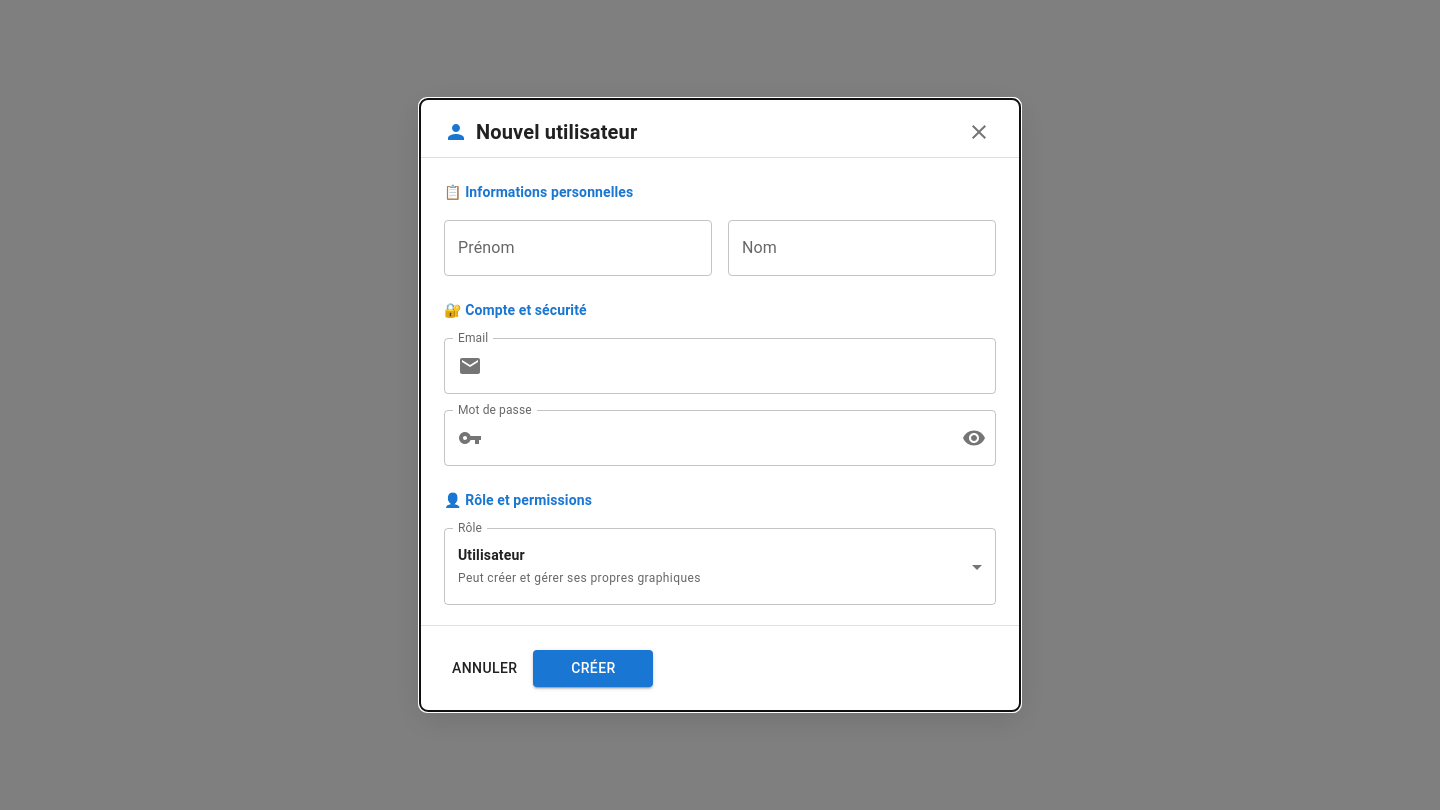
Test case: UserManagementDialog — create mode › rejects invalid email format
This screenshot has width=1440, height=810.
Type "not-email" into the field labelled "Email". click: (743, 366)
box: x1=490 y1=338 x2=996 y2=394
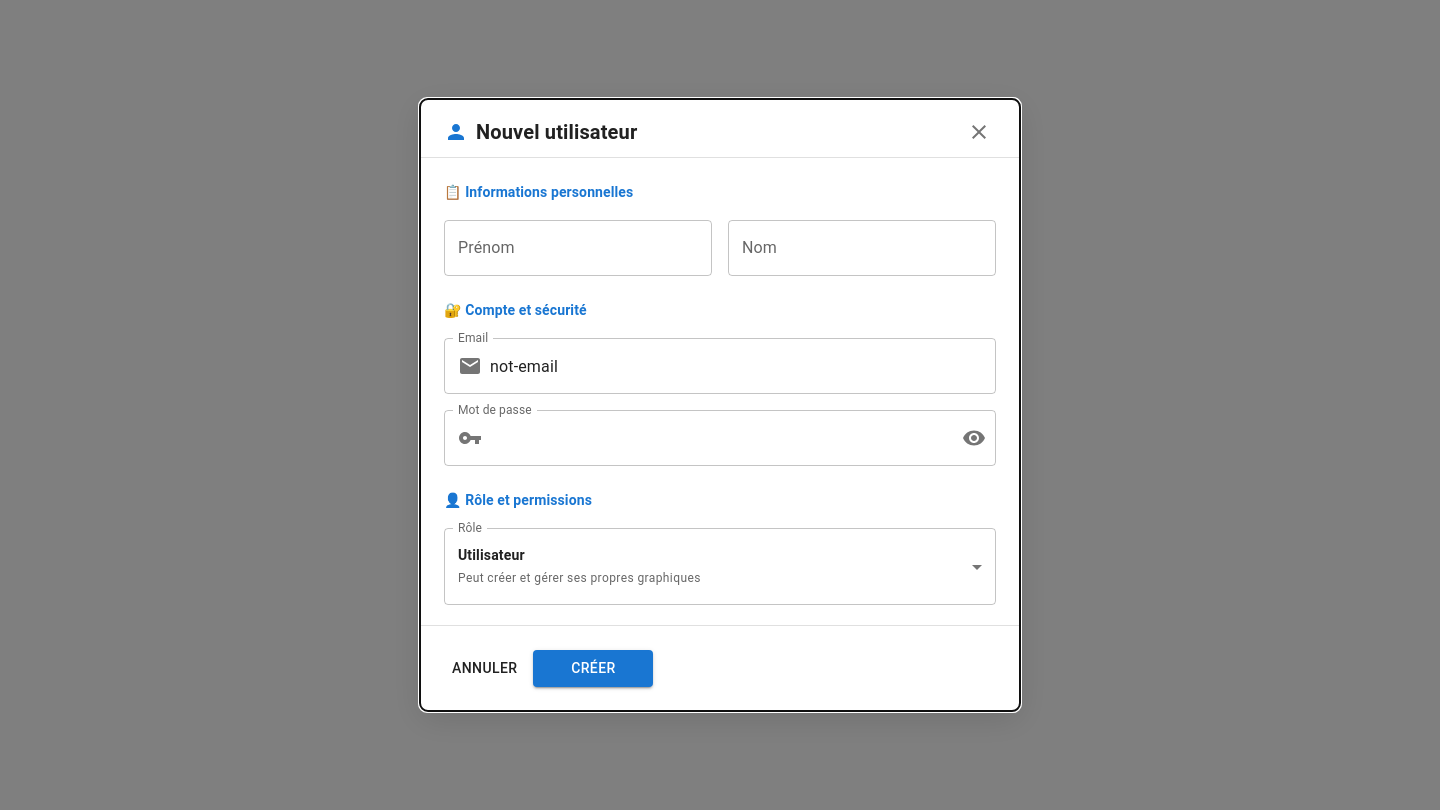
Type "A" into the field labelled "Prénom". click: (578, 248)
box: x1=444 y1=220 x2=712 y2=276
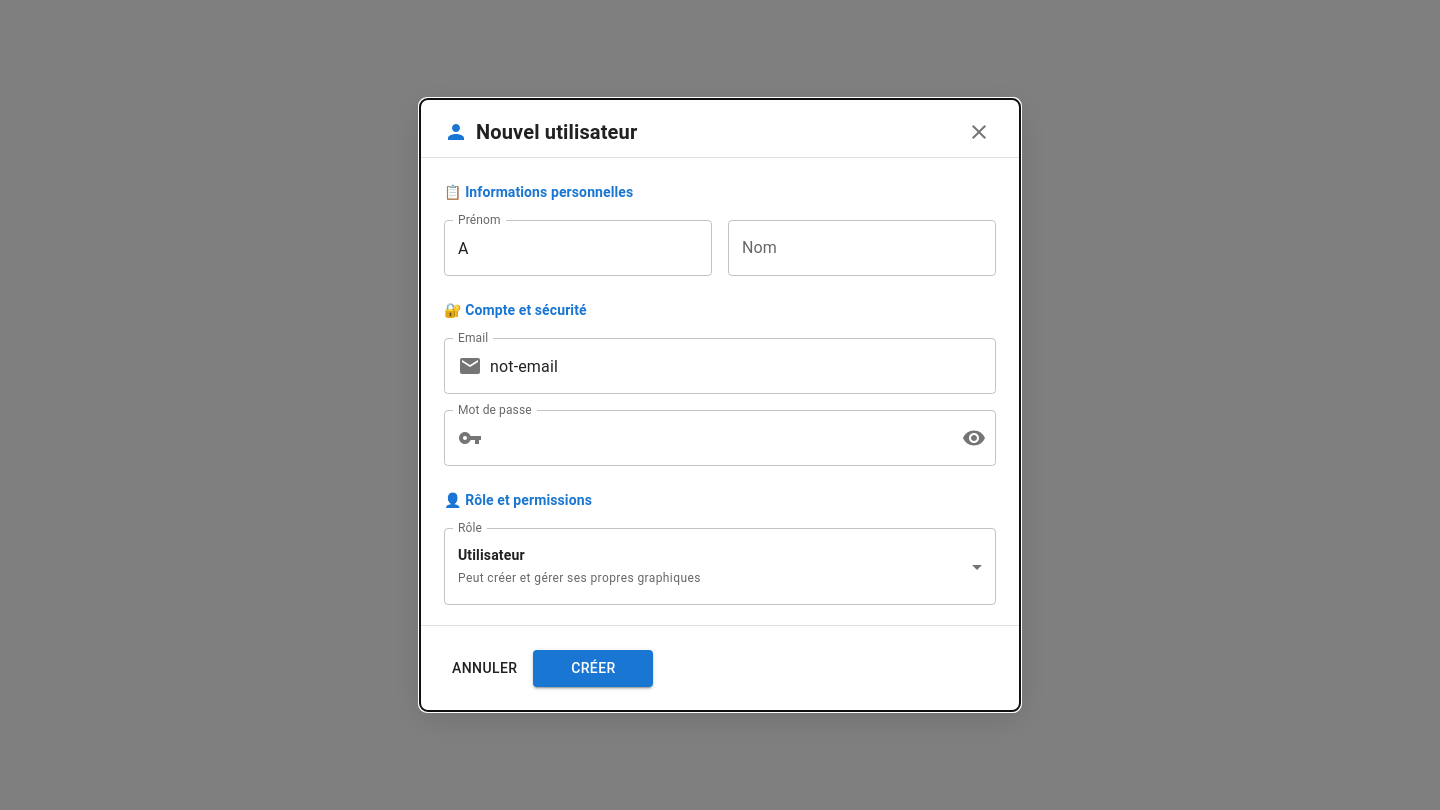
Type "B" into the field labelled "Nom". click: (862, 248)
box: x1=728 y1=220 x2=996 y2=276
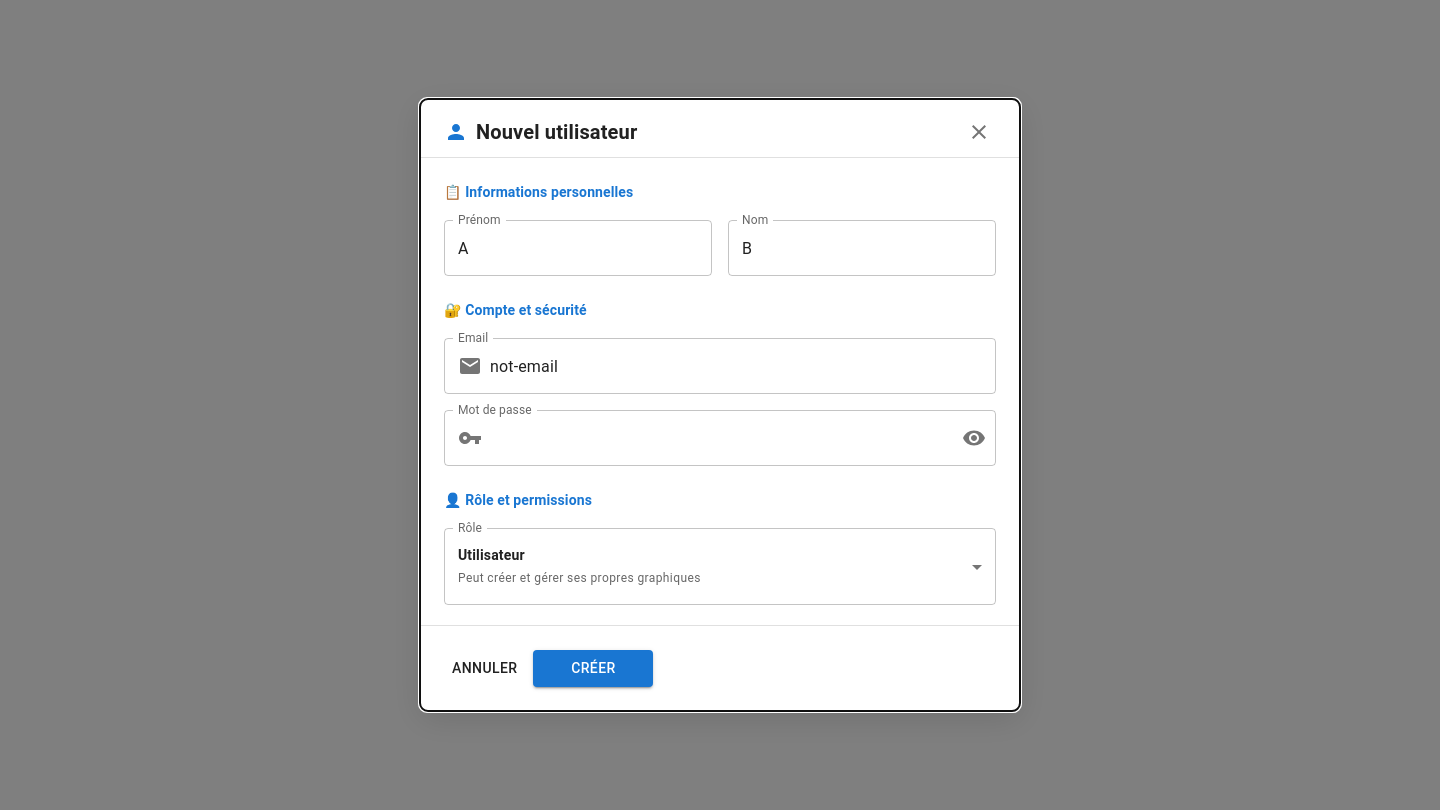
Type "pwd123" into the password field labelled "Mot de passe". click: (718, 438)
box: x1=490 y1=410 x2=946 y2=466
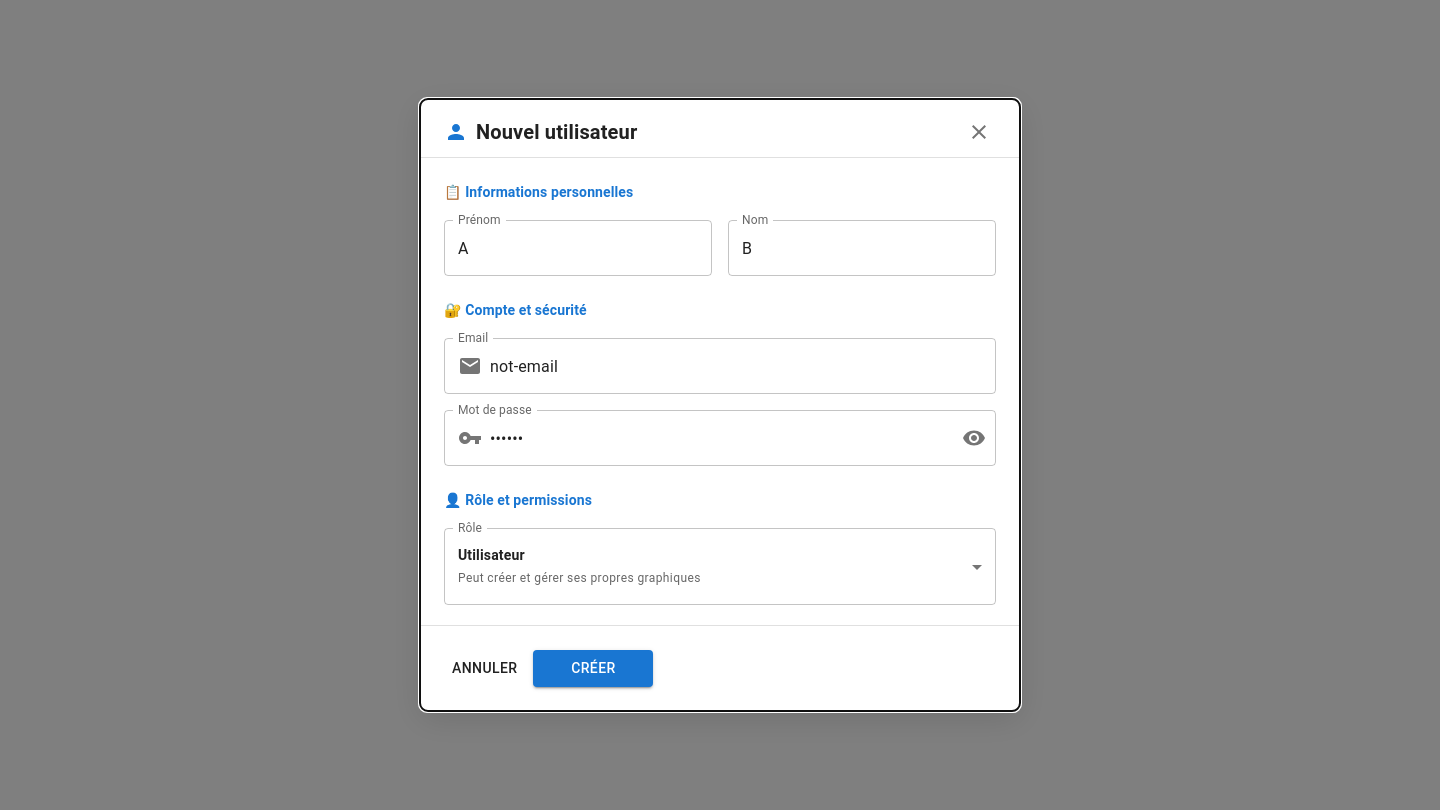
Click the button "Créer". click: (593, 668)
box: x1=533 y1=650 x2=653 y2=687
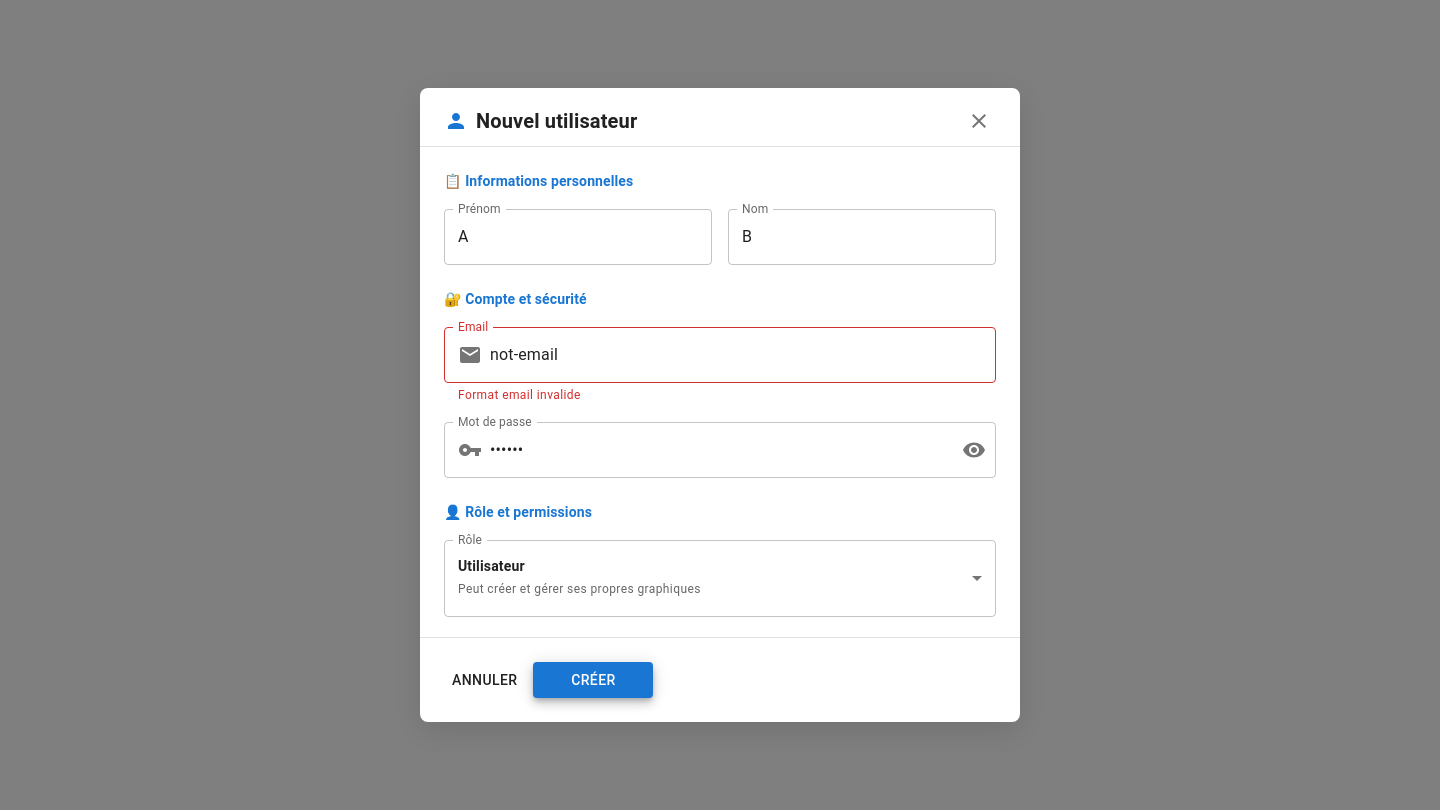
Check: the text "Format email invalide" is shown, box x1=458 y1=388 x2=581 y2=402
